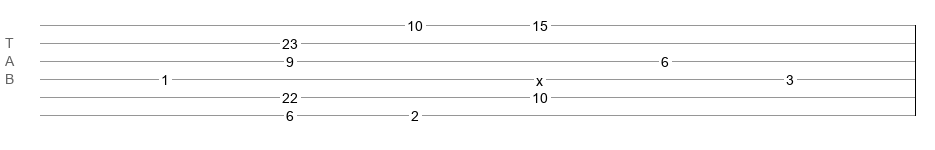1: (161, 72, 169, 82)
10: (407, 18, 423, 28), (532, 90, 548, 100)
15: (532, 18, 548, 28)
2: (411, 108, 419, 118)
22: (282, 90, 298, 100)
23: (282, 36, 298, 46)
3: (786, 72, 794, 82)
6: (286, 108, 294, 118), (661, 54, 669, 64)
9: (286, 54, 294, 64)
x: (536, 73, 543, 81)
